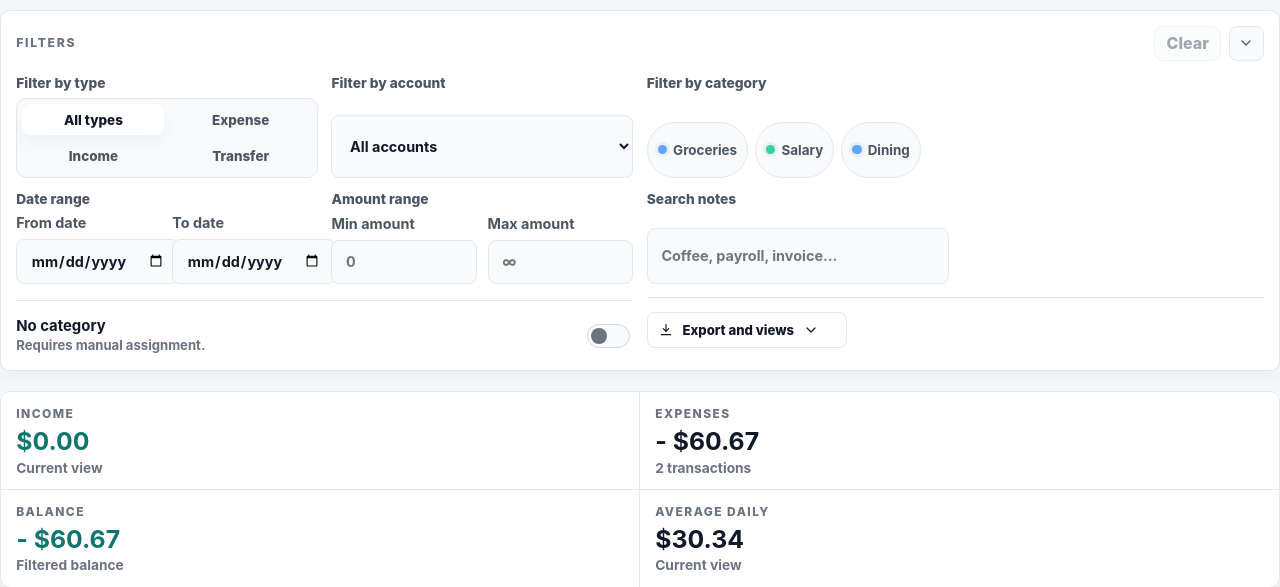
TransactionsPage › filters uncategorized expenses and assigns a category from the workflow
Click the checkbox named "Needs category". click: (609, 336)
box: top-left (587, 324), bottom-right (630, 348)
(page scrolled)
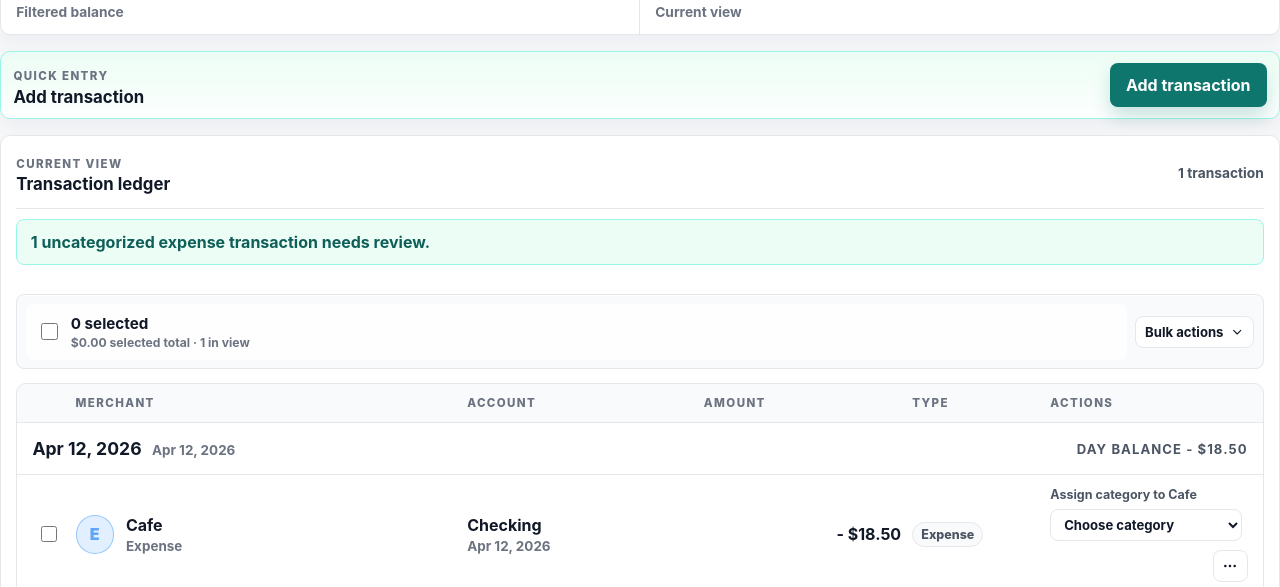
expect the text "Cafe" is shown: met, box top-left (126, 515), bottom-right (163, 535)
expect the text "1 uncategorized expense transaction needs review." is shown: met, box top-left (16, 219), bottom-right (1264, 265)
Select "Dining" in the dropdown labelled "Assign category to Cafe". click: (1146, 525)
box: top-left (1050, 509), bottom-right (1242, 541)
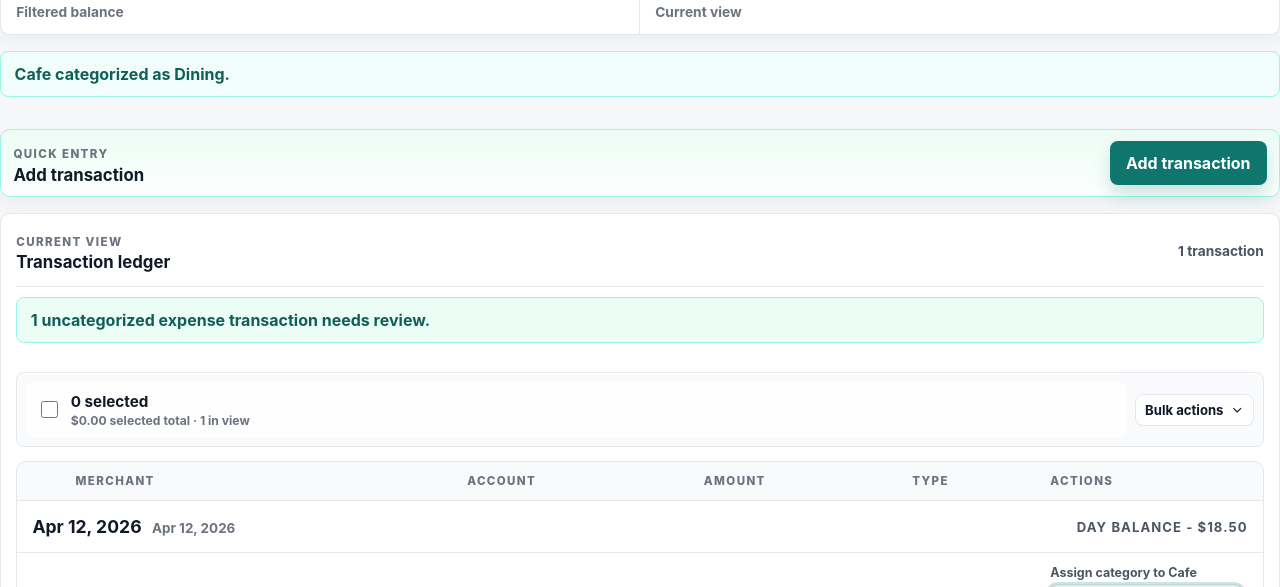
expect the text "Cafe categorized as Dining." is shown: met, box top-left (0, 51), bottom-right (1279, 97)
